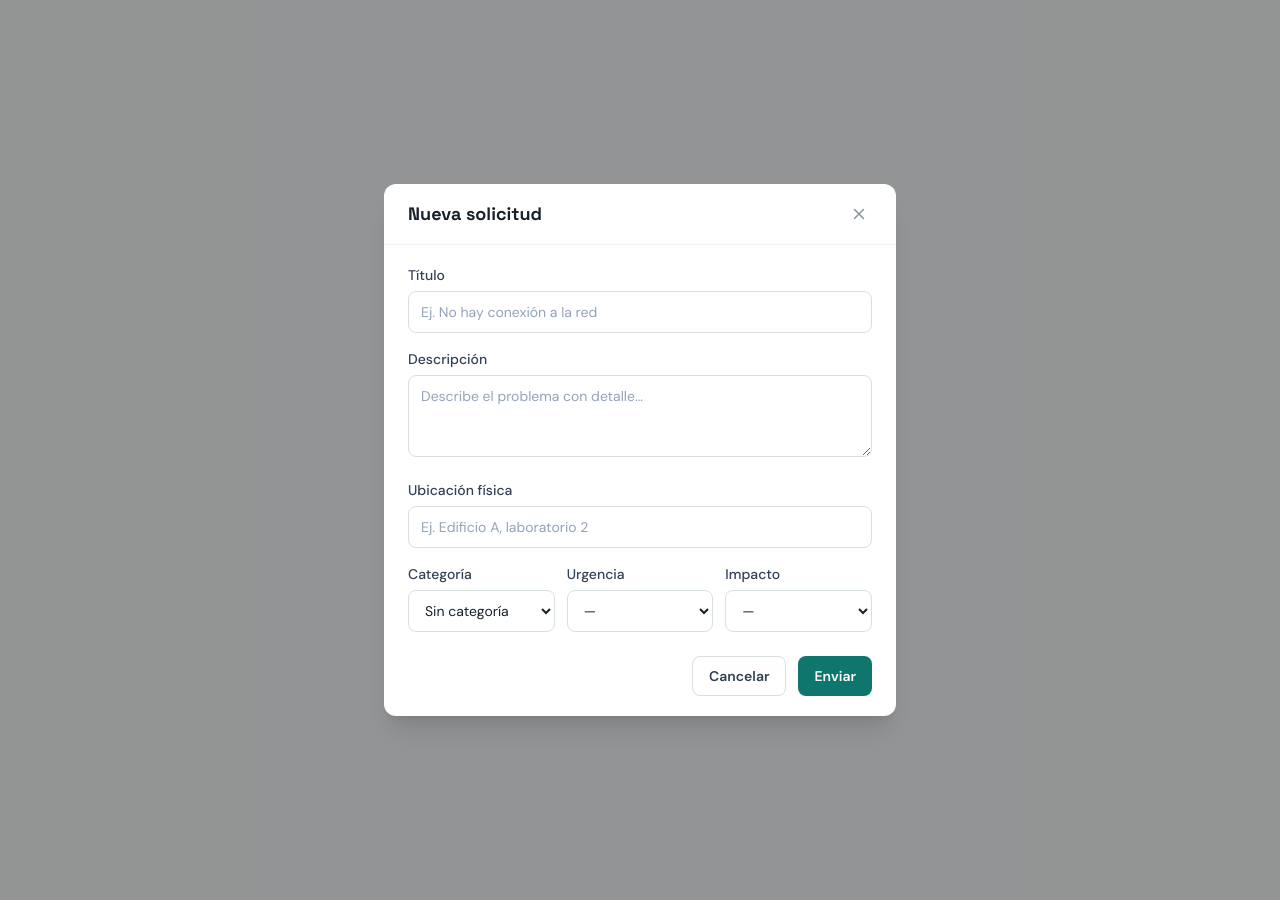
it: SolicitudForm: alta de solicitudes (S3-02 y S3-05, HU-01.1) › S3-02: el error de un campo desaparece al corregirlo
Click the field labelled "Ubicación física" at (640, 527), box [408,506,872,548]
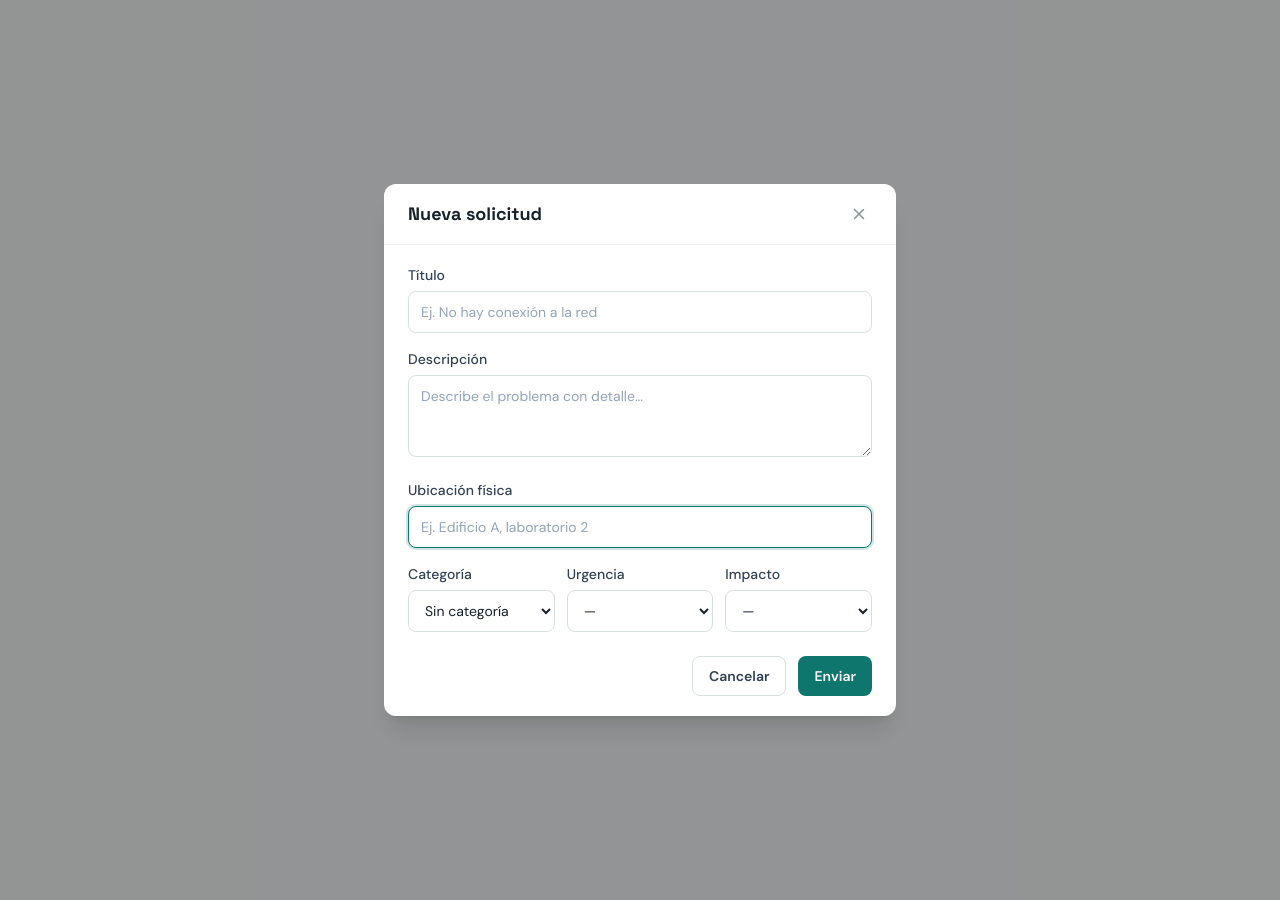
Press Tab
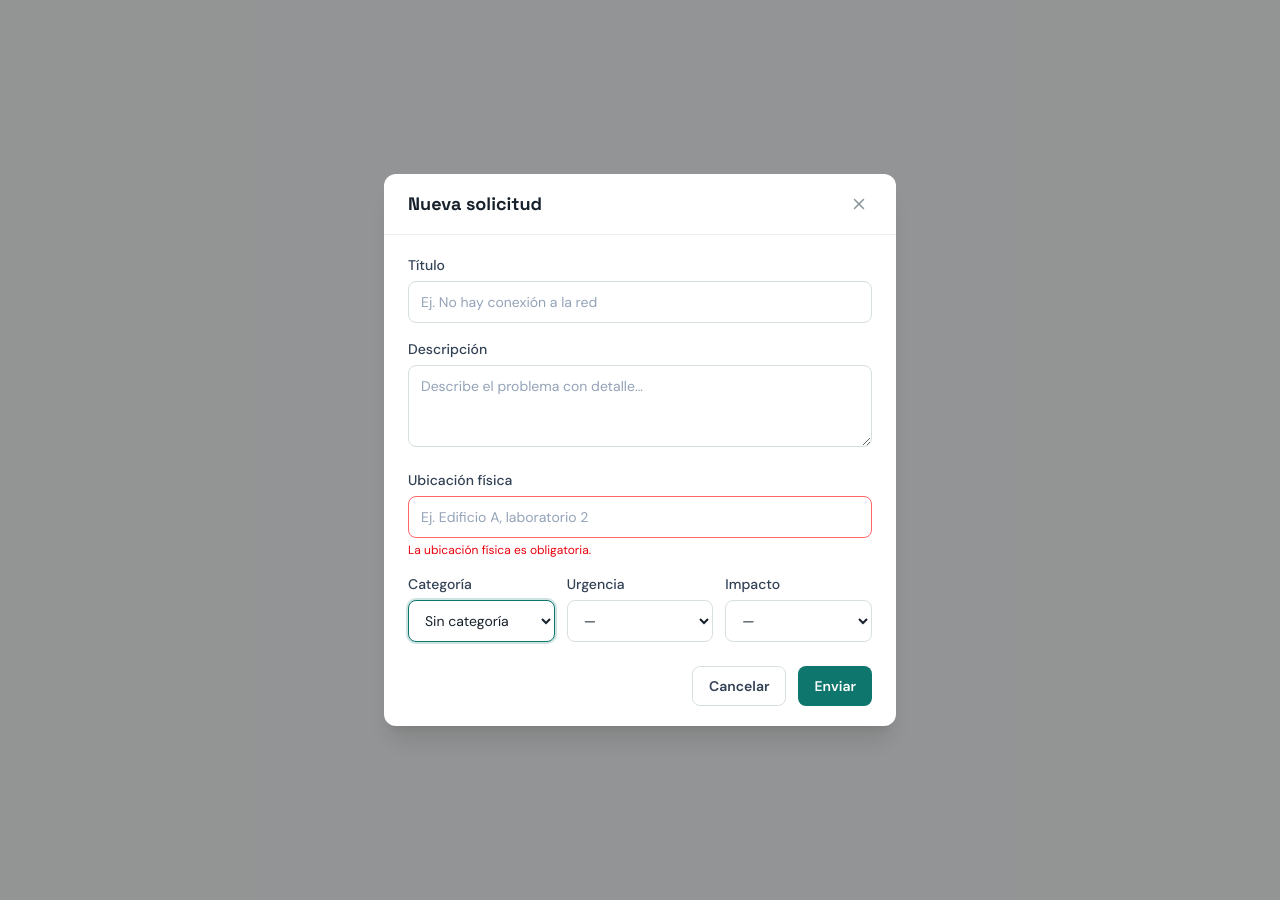
Expected: the text "La ubicación física es obligatoria." is shown, [408,542,591,558]
Type "Edificio A" into the field labelled "Ubicación física" at (640, 517), box [408,496,872,538]
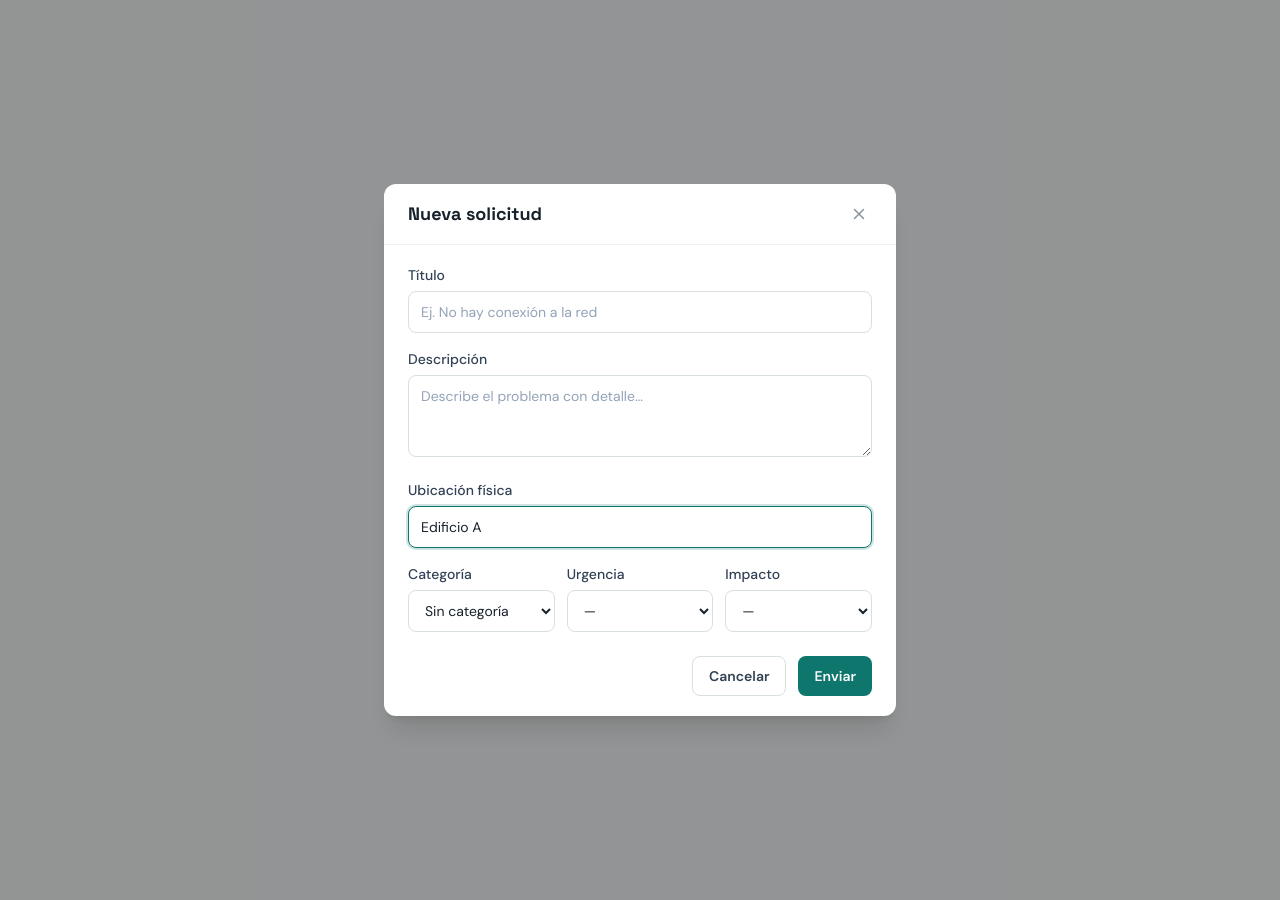
Expected: the text "La ubicación física es obligatoria." is gone
